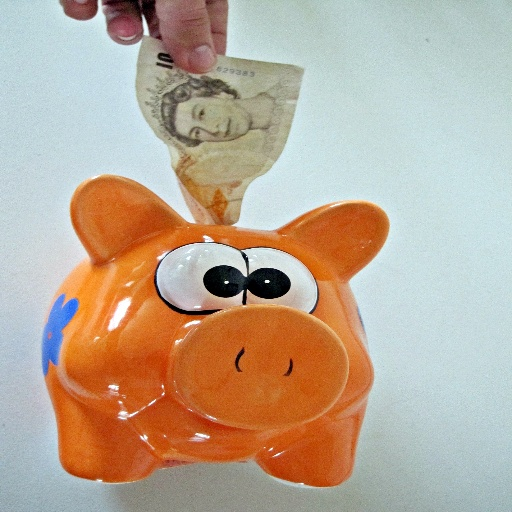hand: (55, 0, 231, 69)
